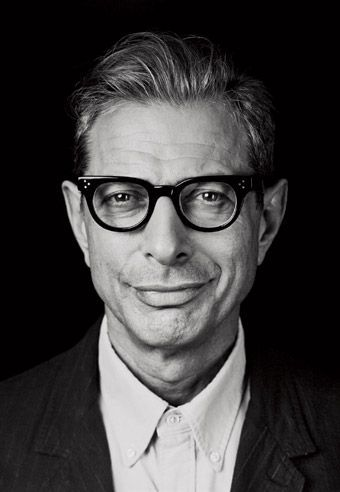llen: (179, 181, 238, 228)
rlen: (92, 181, 150, 228)
